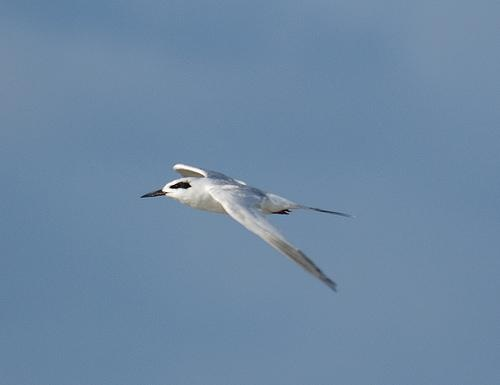bird: (137, 161, 362, 295)
